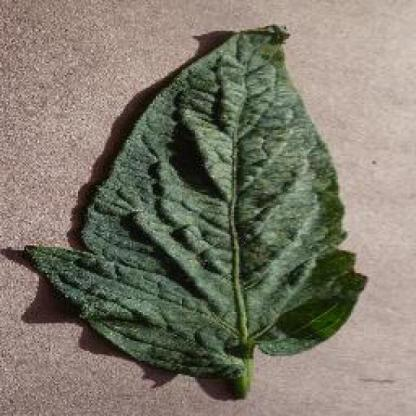Tomato_Spider_Mites: (23, 25, 364, 371)
